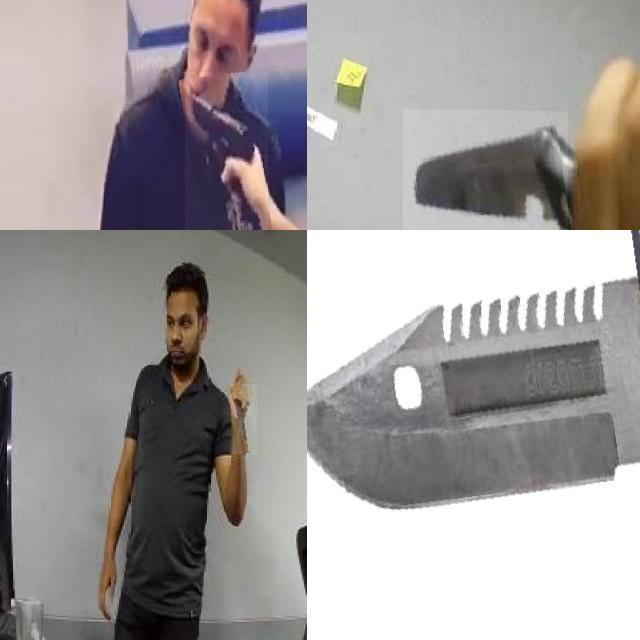-: (307, 230, 640, 640), (402, 108, 568, 230), (230, 384, 257, 454)
gun-knife-thesis - v11 Yolov5 augmented: (184, 70, 268, 230)
